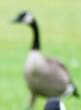goose: (5, 10, 80, 110)
